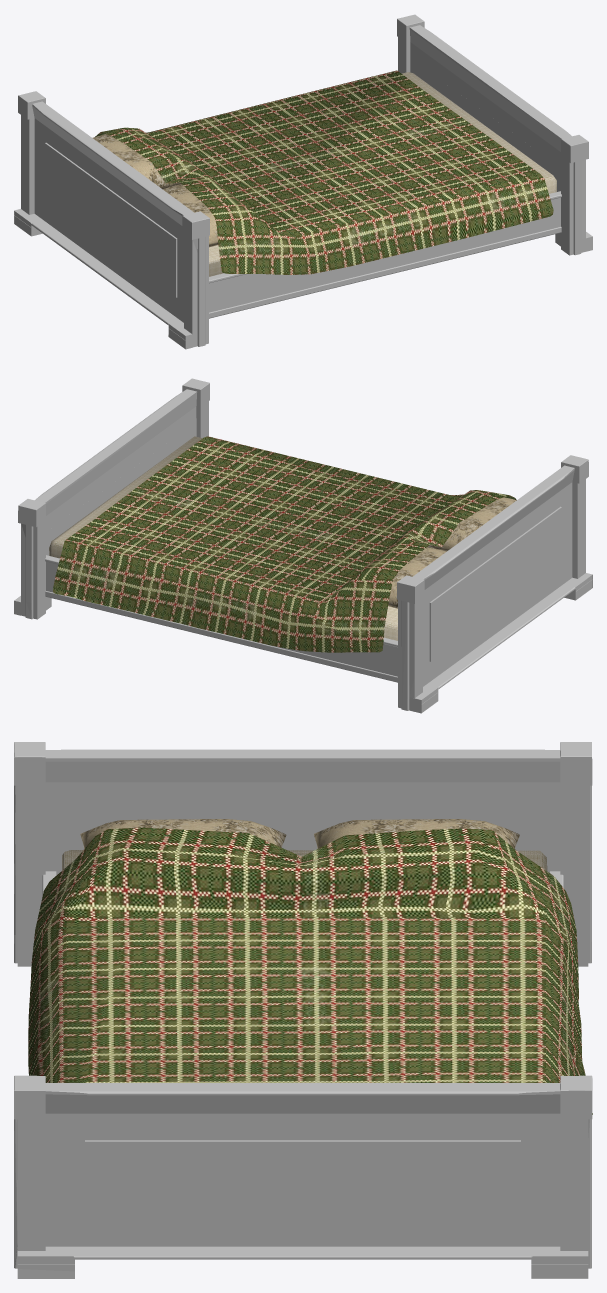
File: bed_LowPoly.fbx
3 renders of one model, top to bottom at view 1: azimuth 30°, elevation 25°; view 2: azimuth 150°, elevation 25°; view 3: azimuth 270°, elevation 25°, orthographic. The views are drawn at different scales.
Parts seen in each view (by area): view 1: covering, body, mattress, pillow_2, pillow_1; view 2: covering, body, mattress, pillow_1, pillow_2; view 3: body, covering, pillow_2, pillow_1.
Boxes of the visible parts, box(x1,y1,x2,y2) form: covering: box(95, 70, 553, 274); body: box(14, 14, 592, 349); mattress: box(209, 72, 556, 276); pillow_2: box(93, 134, 181, 189); pillow_1: box(163, 184, 218, 247); covering: box(53, 436, 516, 652); body: box(14, 378, 592, 713); mattress: box(49, 436, 397, 640); pillow_1: box(427, 497, 516, 551); pillow_2: box(388, 547, 446, 608); body: box(14, 742, 592, 1278); covering: box(28, 827, 592, 1114); pillow_2: box(313, 819, 519, 848); pillow_1: box(80, 819, 286, 848).
Bounding box in the file's own units: 6.77 × 2.01 × 5.01.
